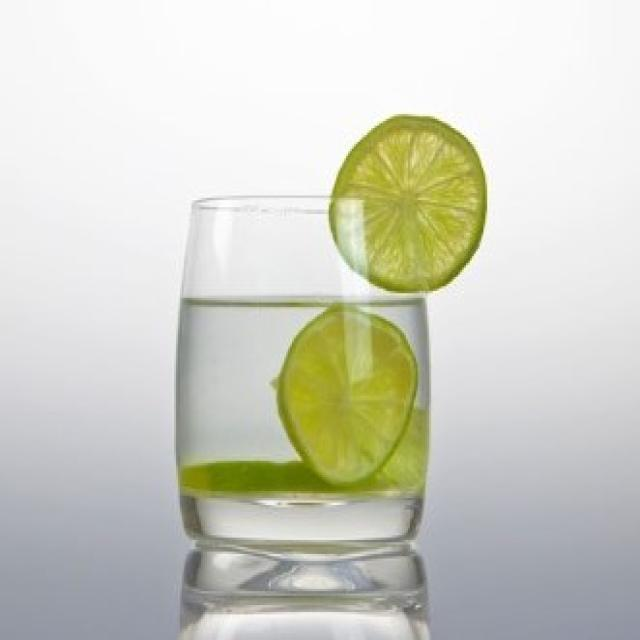electronic: (172, 194, 438, 569)
